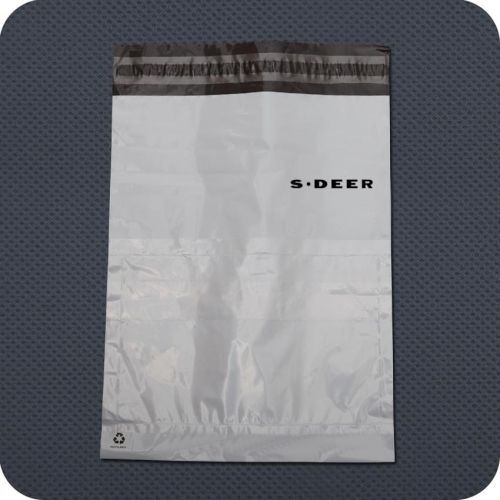塑料袋: (100, 44, 394, 462)
